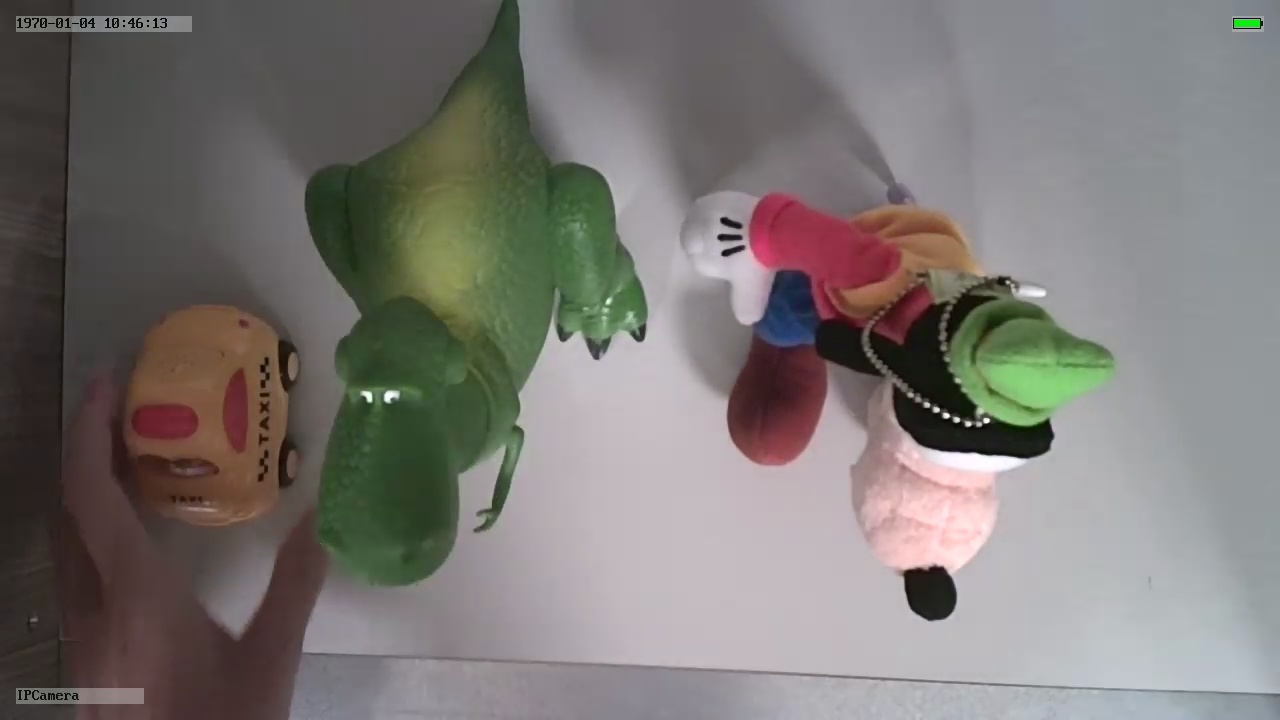goofy: (674, 172, 1119, 627)
rex: (303, 86, 645, 586)
